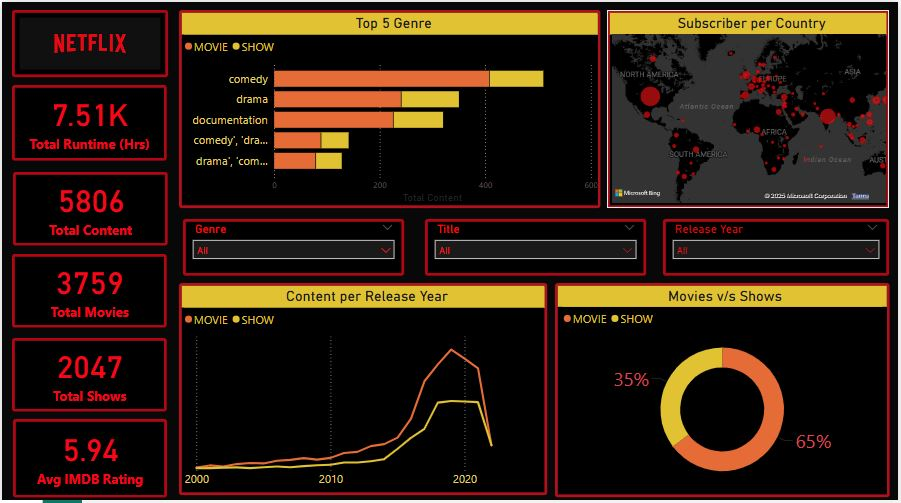

The dashboard page shown, as its layout file describes it:
{"tool":"powerbi","page":{"name":"Page 1","canvas":[1280,720],"ordinal":0},"visuals":[{"type":"card","fields":{"Values":["titles.runtime_hrs"]},"box":[14.2,119.1,221.1,107.7],"z":0},{"type":"card","fields":{"Values":["titles.No of Contents"]},"box":[15.6,242.4,221.1,104.9],"z":1000},{"type":"card","fields":{"Values":["titles.Total Movies"]},"box":[14.2,360,221.1,105],"z":2000},{"type":"card","fields":{"Values":["titles.Total Shows"]},"box":[14.2,480.5,221.1,105],"z":3000},{"type":"card","fields":{"Values":["titles.Avg IMDB Rating"]},"box":[15.6,595.3,219.7,112],"z":4000},{"type":"barChart","title":"Top 5 Genre","fields":{"Category":["titles.genres"],"Y":["All Measures.Total Content"],"Series":["titles.type"]},"box":[252.3,11.3,602.4,283.5],"z":5000},{"type":"lineChart","title":"Content per Release Year","fields":{"Category":["titles.release_year"],"Y":["All Measures.Total Content"],"Series":["titles.type"]},"box":[252.3,401.1,525.8,303.3],"z":6000},{"type":"image","box":[14.2,11.3,222.5,96.4],"z":7000},{"type":"map","title":"Subscriber per Country","fields":{"Category":["titles.production_countries"],"Size":["All Measures.Total Runtime (Hrs)"]},"box":[864.6,11.3,402.5,283.5],"z":8000},{"type":"donutChart","title":"Movies v/s Shows","fields":{"Category":["titles.type"],"Y":["All Measures.Total Content"]},"box":[789.4,401.1,477.6,306.1],"z":9000},{"type":"slicer","fields":{"Values":["titles.genres"]},"box":[258,310.4,316.1,80.8],"z":10000},{"type":"slicer","fields":{"Values":["titles.title"]},"box":[603.8,310.4,316.1,80.8],"z":11000},{"type":"slicer","fields":{"Values":["titles.release_year"]},"box":[943.9,310.4,323.1,80.8],"z":12000}]}

Visuals, with their boxes in screenshot pixels (x1, y1, x2, y2), scaled from the page's 1280x720 canvas onto the 901x503 screenshot:
card - titles.runtime_hrs: l=10, t=83, r=166, b=158
card - titles.No of Contents: l=11, t=169, r=167, b=243
card - titles.Total Movies: l=10, t=252, r=166, b=325
card - titles.Total Shows: l=10, t=336, r=166, b=409
card - titles.Avg IMDB Rating: l=11, t=416, r=166, b=494
"Top 5 Genre" barChart: l=178, t=8, r=602, b=206
"Content per Release Year" lineChart: l=178, t=280, r=548, b=492
image: l=10, t=8, r=167, b=75
"Subscriber per Country" map: l=609, t=8, r=892, b=206
"Movies v/s Shows" donutChart: l=556, t=280, r=892, b=494
slicer - titles.genres: l=182, t=217, r=404, b=273
slicer - titles.title: l=425, t=217, r=648, b=273
slicer - titles.release_year: l=664, t=217, r=892, b=273
